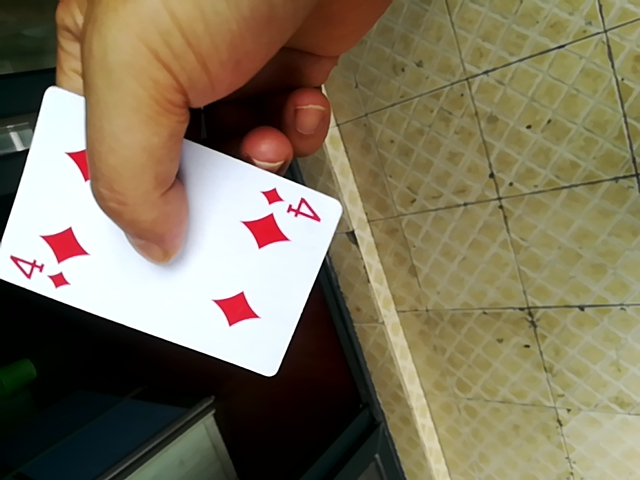fk 4: (0, 71, 347, 368)
